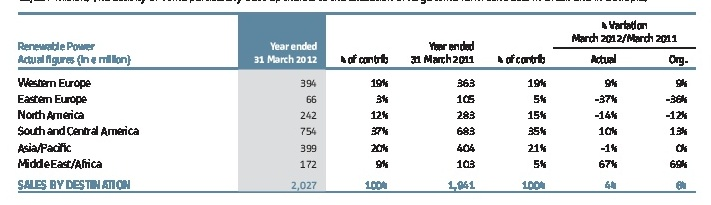table: (0, 0, 711, 205)
